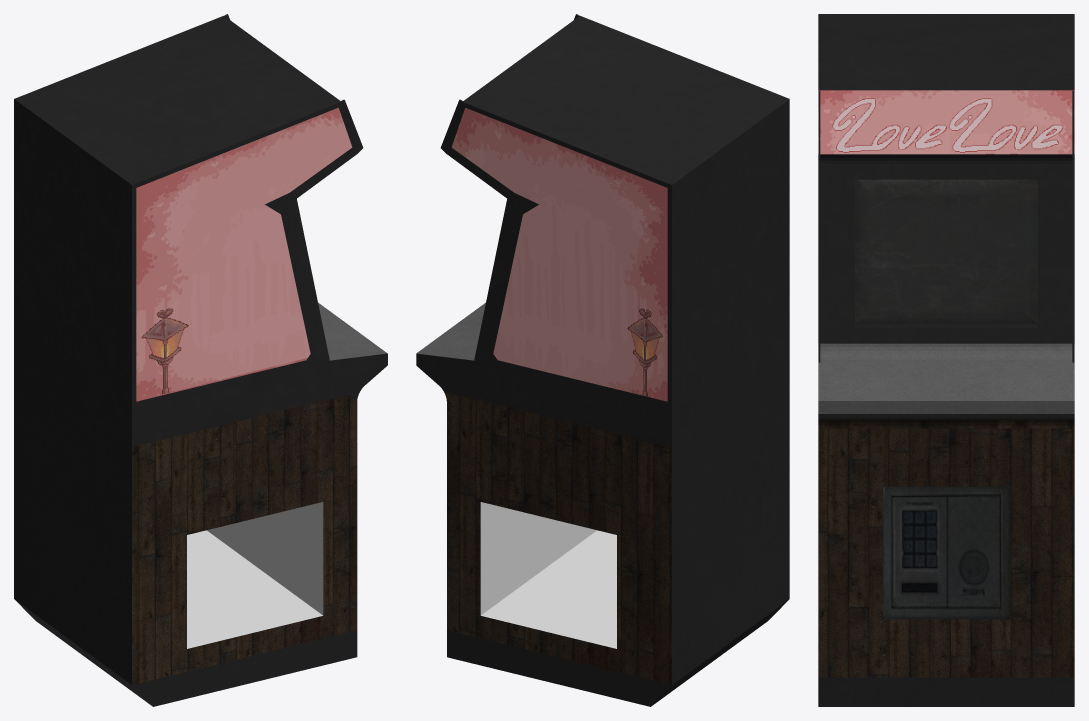
The model's file is arcaderemaster.fbx.
The picture shows the model from 3 angles, left to right: view 1: azimuth 30°, elevation 25°; view 2: azimuth 150°, elevation 25°; view 3: azimuth 270°, elevation 25°; orthographic projection. The views are drawn at different scales.
Parts seen in each view (by area): view 1: Cube, Cube.001; view 2: Cube, Cube.002; view 3: Cube, Cube.002, Cube.001.
Boxes of the visible parts, <box> form: Cube: <box>14,16,387,706</box>; Cube.001: <box>284,99,363,360</box>; Cube: <box>416,16,789,706</box>; Cube.002: <box>440,99,519,360</box>; Cube: <box>818,14,1074,706</box>; Cube.002: <box>1072,90,1074,362</box>; Cube.001: <box>818,90,820,362</box>.
Bounding box in the file's own units: 112 × 234 × 89.32.
